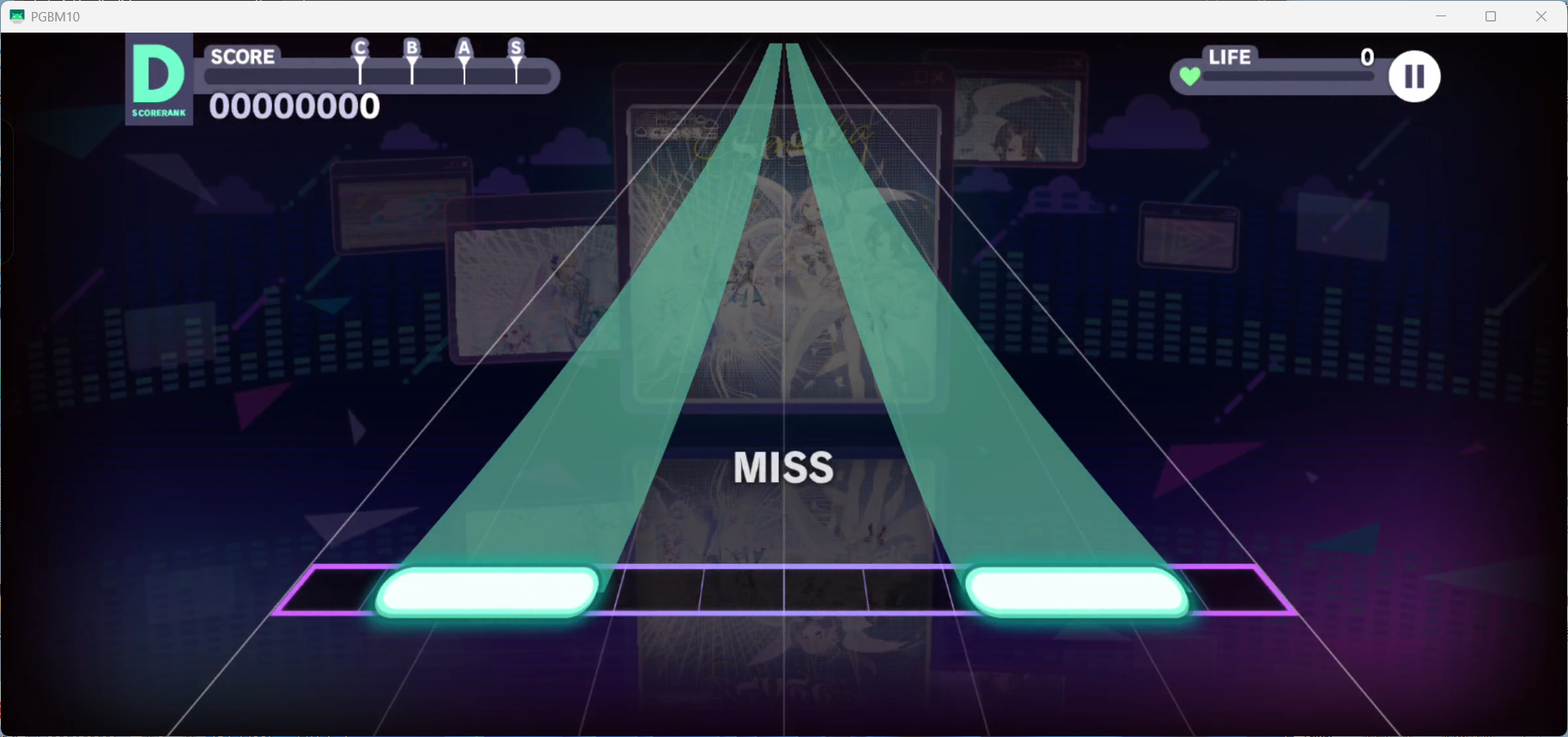hold: (783, 33, 1172, 568), (394, 41, 783, 571)
tap: (965, 567, 1191, 620), (375, 568, 599, 618)
